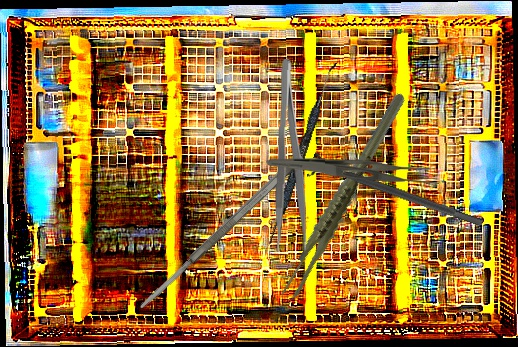Dressing Forceps: (274, 58, 311, 253), (265, 157, 442, 188)
Fixation Ring: (306, 150, 487, 237)
Spatula Surgical: (135, 151, 307, 313), (266, 60, 337, 247)
Tissue Forceps: (248, 90, 441, 304)
